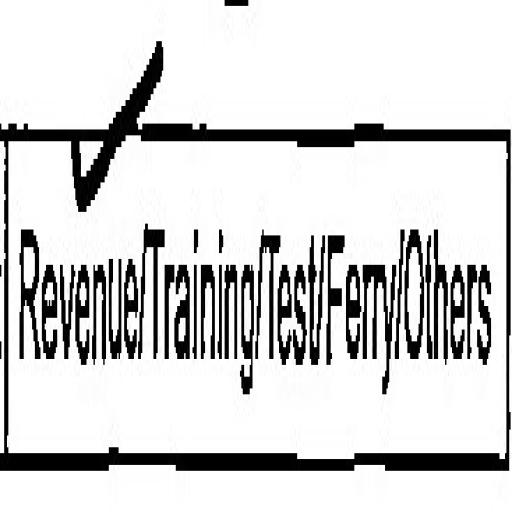check: (2, 39, 142, 493)
